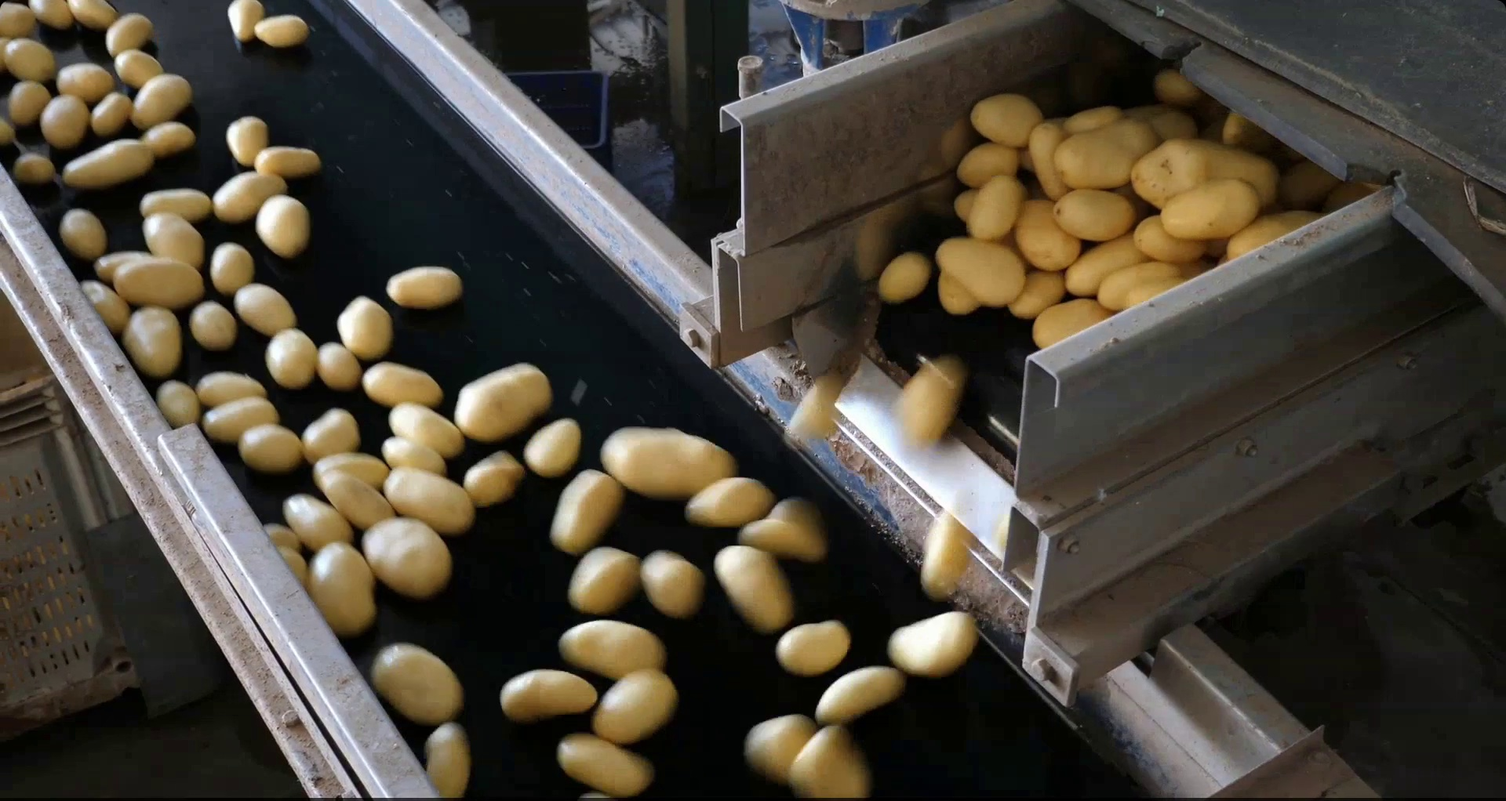potato: (1130, 133, 1282, 214), (595, 422, 742, 505), (449, 357, 558, 448), (365, 638, 469, 728), (709, 538, 800, 639), (358, 512, 458, 603), (1050, 117, 1164, 194), (933, 231, 1034, 312), (553, 614, 671, 683), (302, 537, 381, 640), (544, 463, 628, 558), (587, 664, 683, 746), (888, 356, 966, 456), (882, 606, 983, 683), (782, 721, 878, 801), (551, 729, 660, 799), (378, 464, 480, 538), (1156, 175, 1263, 244), (1058, 228, 1155, 303), (733, 496, 831, 565), (809, 662, 911, 727), (562, 542, 648, 619), (737, 709, 820, 788), (915, 502, 978, 603), (494, 665, 602, 723), (1217, 206, 1325, 264), (1015, 191, 1084, 276), (311, 466, 398, 533), (678, 473, 780, 530), (780, 368, 848, 453), (1090, 258, 1191, 315), (770, 614, 857, 680), (55, 135, 159, 190), (636, 546, 708, 624), (109, 254, 209, 310), (384, 398, 469, 463), (118, 301, 187, 381), (1050, 183, 1139, 245), (1028, 295, 1117, 353), (965, 88, 1048, 150), (962, 169, 1029, 245), (279, 488, 355, 554), (138, 207, 211, 273), (1130, 210, 1213, 268), (333, 290, 398, 363), (358, 358, 447, 410), (208, 167, 287, 225), (200, 393, 283, 447), (420, 720, 475, 801), (253, 190, 314, 263), (521, 413, 586, 480), (380, 263, 467, 313), (230, 278, 301, 339), (128, 68, 198, 129), (460, 448, 528, 509), (296, 405, 364, 466), (235, 420, 307, 477), (262, 324, 321, 393), (306, 448, 398, 492), (1023, 114, 1070, 200), (874, 246, 934, 306), (78, 274, 134, 337), (955, 139, 1024, 189), (1005, 267, 1069, 320), (194, 367, 271, 410), (135, 184, 215, 225), (37, 92, 93, 150), (205, 238, 257, 299), (378, 434, 448, 479), (56, 205, 111, 262), (1121, 274, 1196, 315), (53, 58, 118, 105), (311, 338, 366, 393), (249, 142, 326, 181), (222, 112, 273, 170), (267, 528, 311, 595), (186, 298, 239, 353), (152, 376, 205, 431), (1, 34, 60, 83), (1057, 100, 1127, 140), (2, 76, 56, 126), (101, 9, 156, 58), (135, 118, 199, 160), (88, 86, 136, 139), (250, 11, 312, 52), (1138, 104, 1200, 144), (111, 45, 166, 89), (1151, 63, 1204, 107), (90, 245, 157, 279), (933, 272, 982, 318), (260, 517, 306, 561), (9, 149, 59, 187), (225, 1, 266, 44), (64, 1, 119, 31), (1, 1, 41, 42), (24, 1, 75, 31), (950, 182, 980, 224), (1218, 108, 1250, 145), (1, 107, 19, 153)
